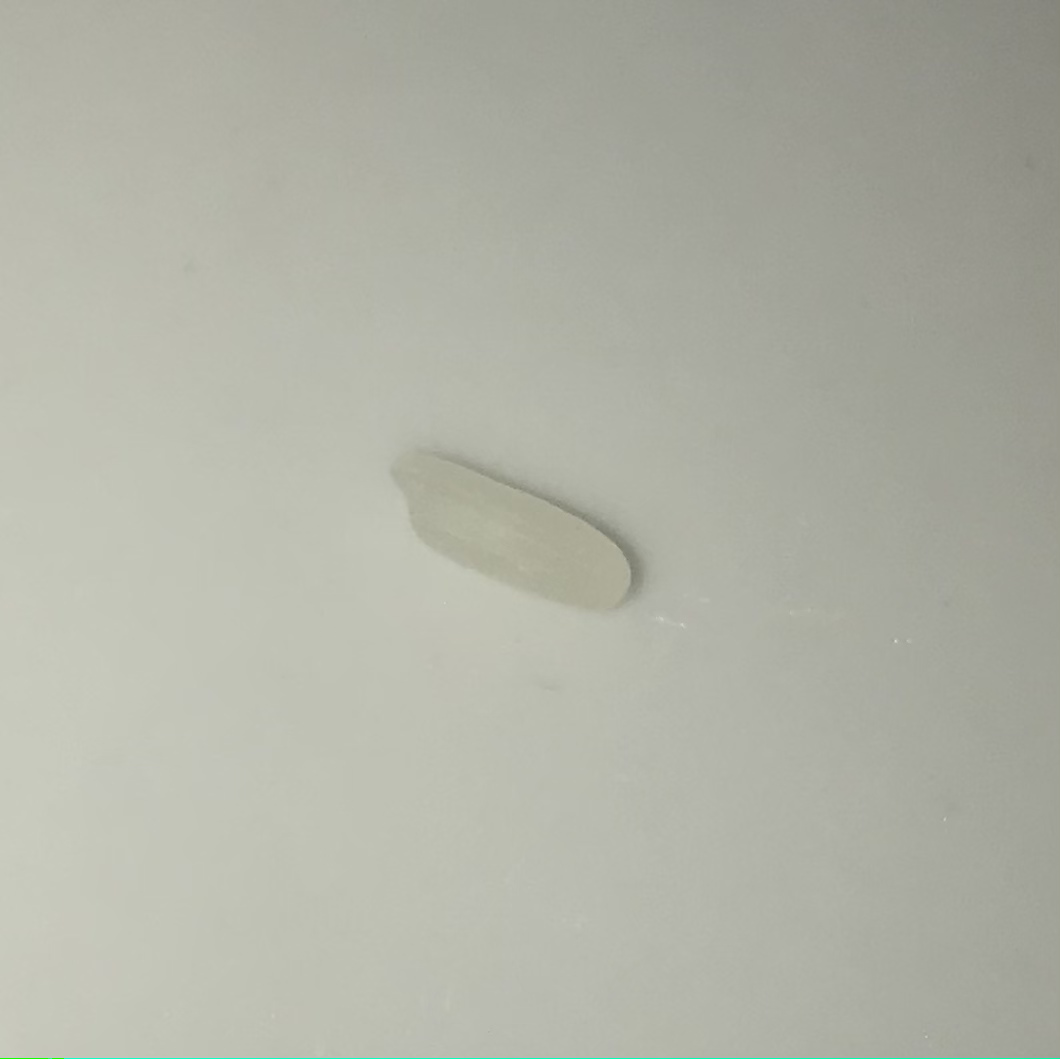Gao Thom Go Cong: (374, 424, 653, 626)
